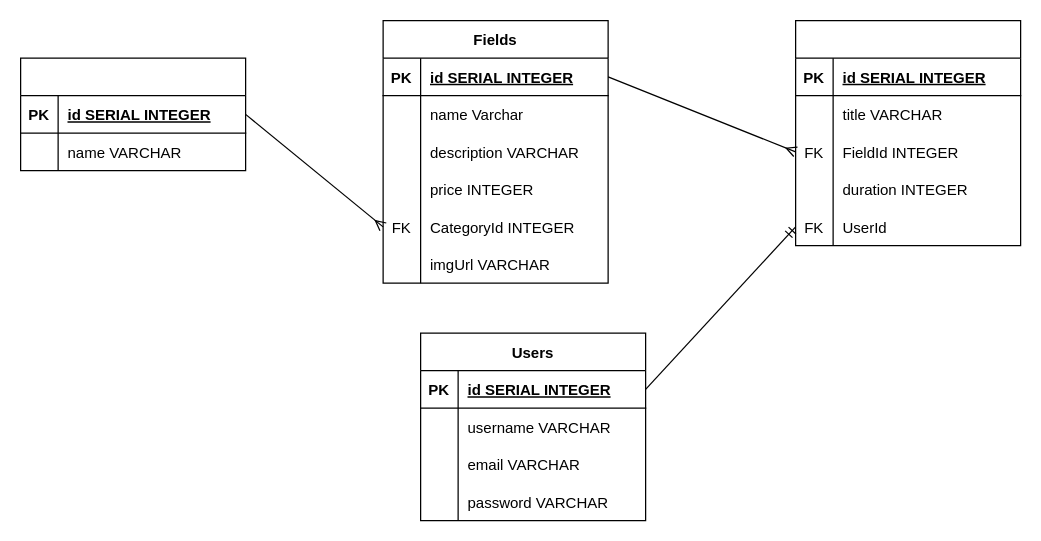
Image size: 1041x541. Some labels were removed from this diagram. The shapes that lost their labels are listed below. From the top down, each one's box as (x1, y1, x2, y2) in pixels, then its label:
(19, 57, 246, 171): Categories
(794, 19, 1021, 246): Rents
